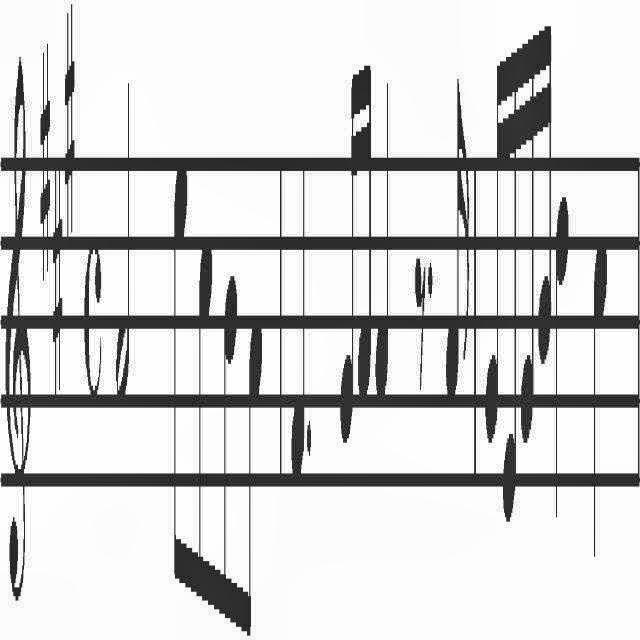Bass-clef: (6, 51, 30, 604)
Diez: (38, 41, 50, 285), (64, 1, 76, 240), (53, 171, 63, 397)
Eighth-note: (238, 316, 262, 640), (194, 232, 214, 616), (218, 268, 238, 636), (172, 148, 188, 604)
Eighth-rest: (414, 253, 426, 392)
Half-note: (117, 76, 131, 404)
Quarter-note: (592, 233, 608, 572), (290, 158, 306, 492), (376, 73, 390, 419), (555, 190, 569, 524)
Sixteenth-note: (446, 73, 470, 414), (502, 33, 518, 530), (483, 44, 501, 456), (520, 22, 536, 458), (338, 69, 356, 444), (358, 26, 374, 426), (536, 17, 552, 385)
